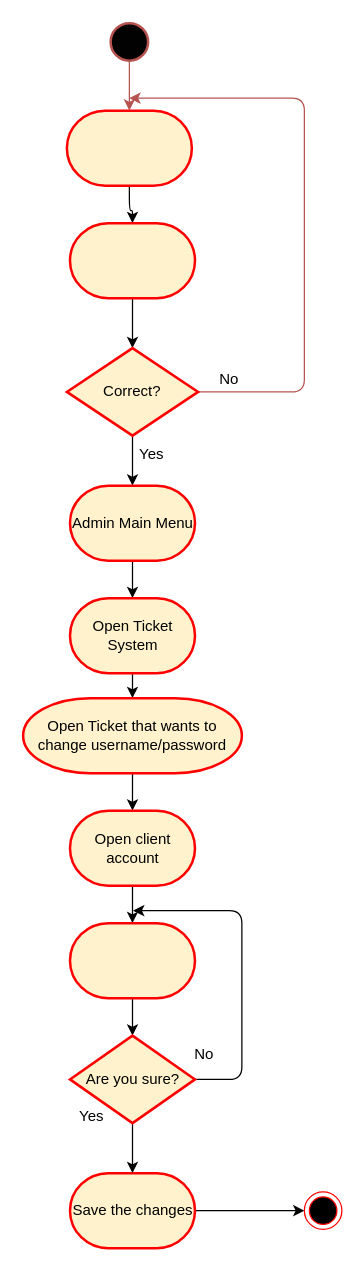
Some shapes in this 364 by 1270 pixel diagram are drawn without their labels. The shapes that lost their labels are listed below. From the top down, each one's centre as x and y in pixels, then its label:
At point 128,147: "Admin Login Page".
At point 132,260: "Enter credentials".
At point 132,960: "Edit credentials".
